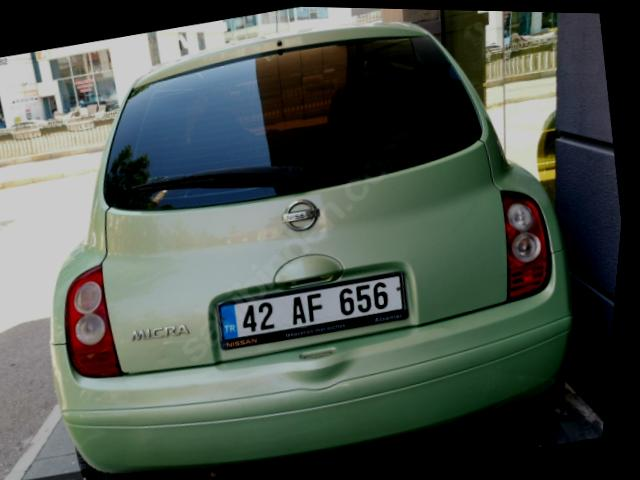plaka: (217, 272, 407, 349)
